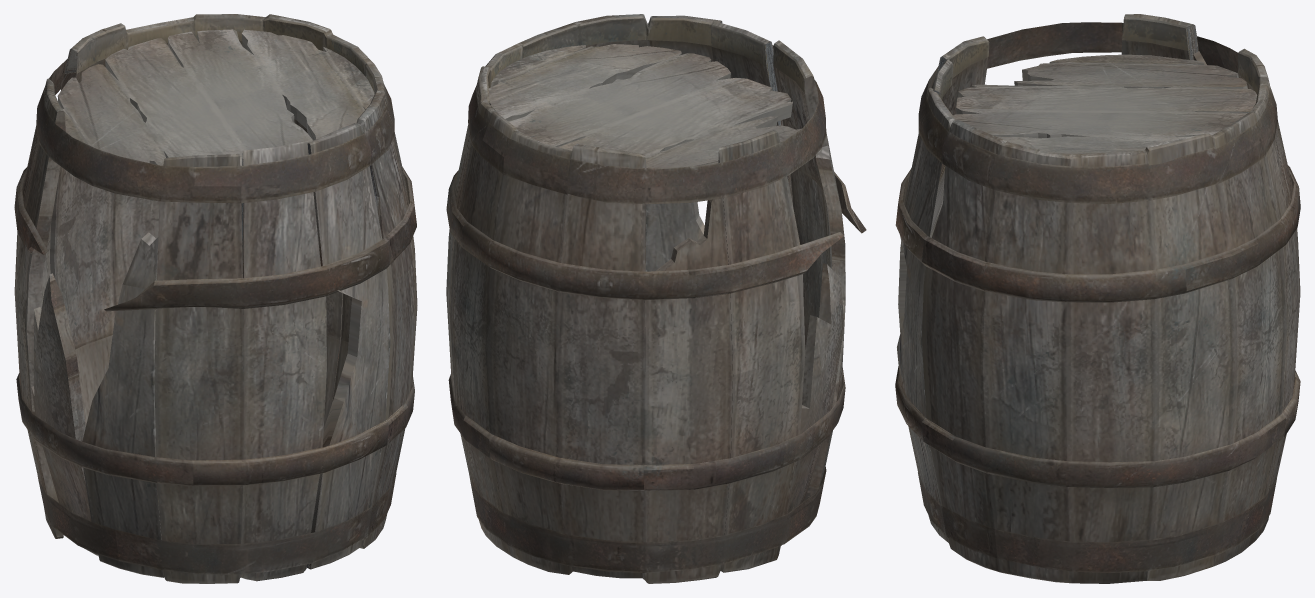
Rendered from Barrel3.obj.
The picture shows the model from 3 angles, left to right: view 1: azimuth 30°, elevation 25°; view 2: azimuth 150°, elevation 25°; view 3: azimuth 270°, elevation 25°; orthographic projection.
Visible parts, largest first — view 1: group_006; view 2: group_006; view 3: group_006.
Part boxes in pixels (x1,y1,x2,y2): group_006: (14, 14, 417, 583); group_006: (446, 14, 866, 583); group_006: (895, 14, 1300, 583).
Bounding box in the file's own units: 0.928 × 1.07 × 0.9048.
Materials: 1 (1 with a texture image).
